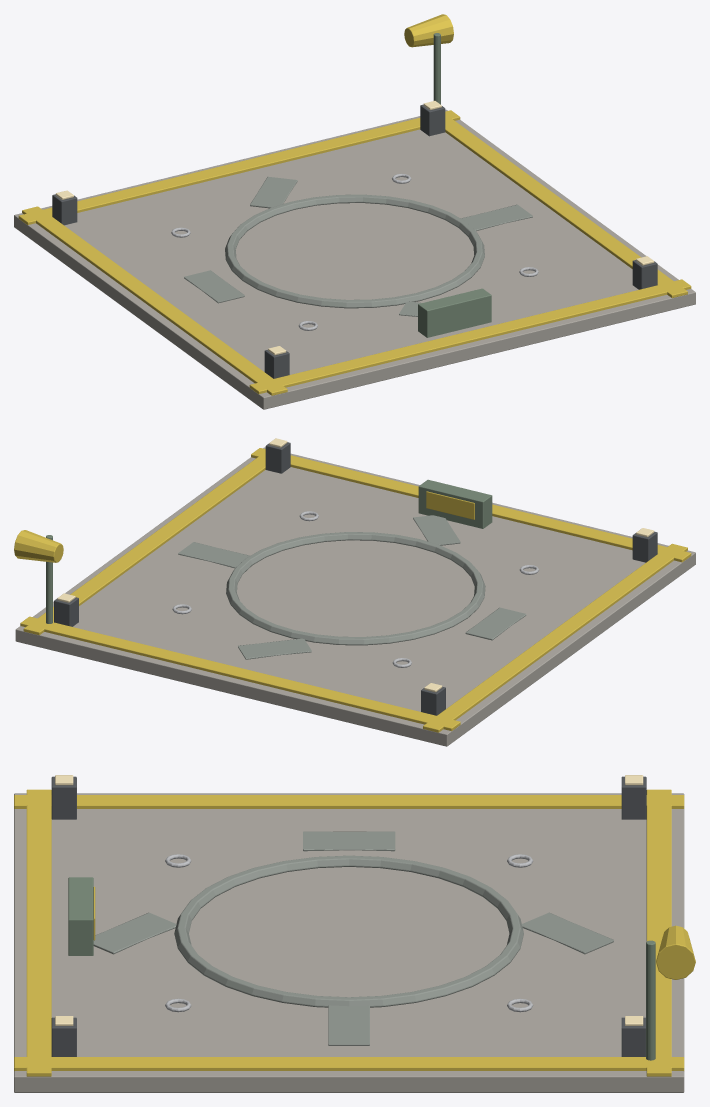
The model's file is extraction_pad.fbx.
The picture shows the model from 3 angles, top to bottom: view 1: azimuth 30°, elevation 25°; view 2: azimuth 150°, elevation 25°; view 3: azimuth 270°, elevation 25°; orthographic projection. The views are drawn at different scales.
Visible parts, largest first — view 1: extraction_pad; view 2: extraction_pad; view 3: extraction_pad.
Boxes of the visible parts, x1=… form: extraction_pad: x1=14, y1=14, x2=695, y2=409; extraction_pad: x1=14, y1=438, x2=695, y2=746; extraction_pad: x1=14, y1=775, x2=695, y2=1092.
Size of the model in its own units: 8 by 1.94 by 8.14.
